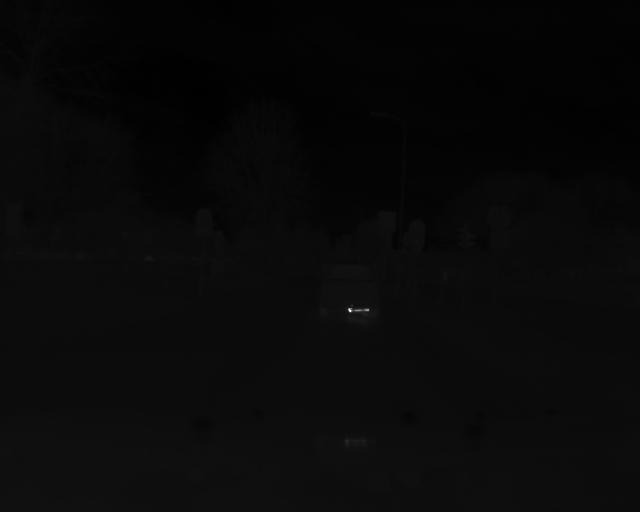car: (318, 252, 383, 321)
